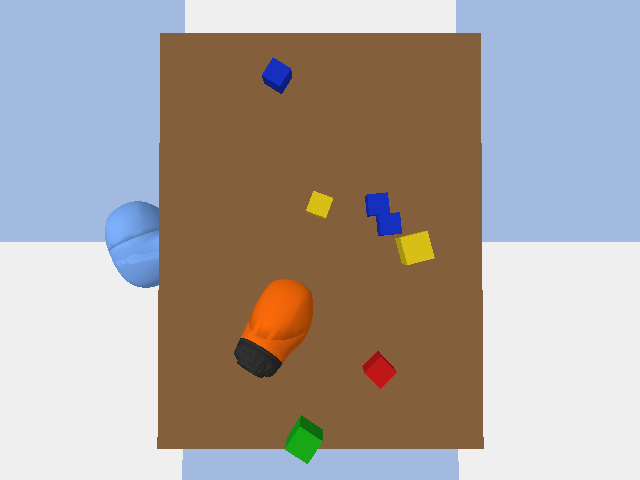blue_obj: (262, 58, 291, 93), (365, 192, 389, 216), (376, 212, 401, 235)
green_obj: (285, 415, 322, 463)
red_obj: (362, 351, 396, 388)
yellow_obj: (395, 231, 434, 264), (306, 191, 332, 218)
